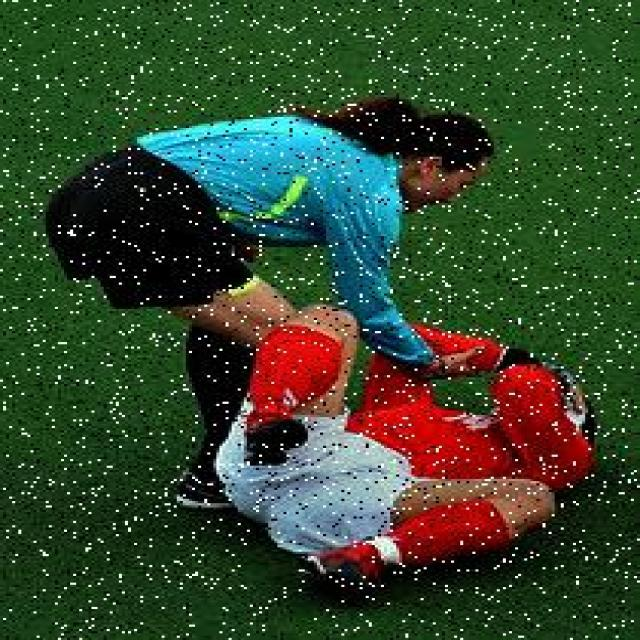fall: (171, 351, 604, 580)
